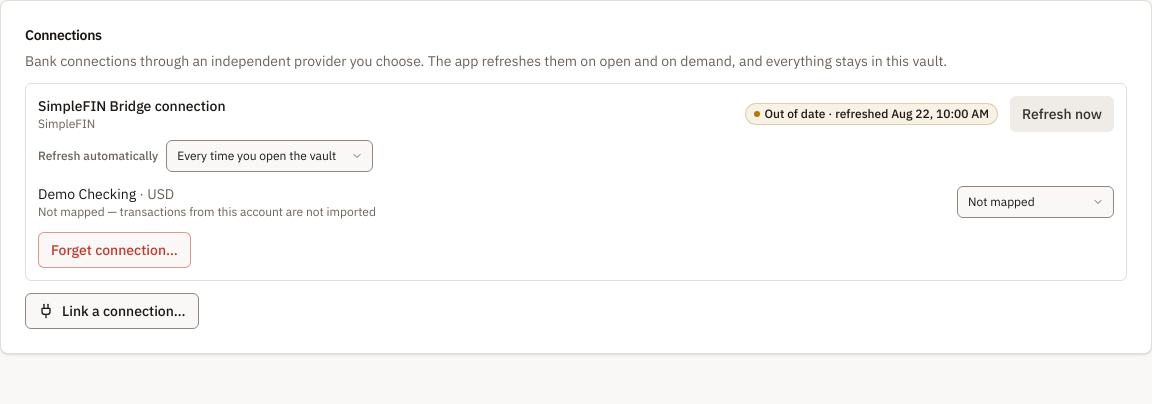
ConnectionsCard › reads an empty-provider discovery as healthy waiting, not an error
Click the button "Refresh now" at (1062, 114), box [1010,96,1114,132]
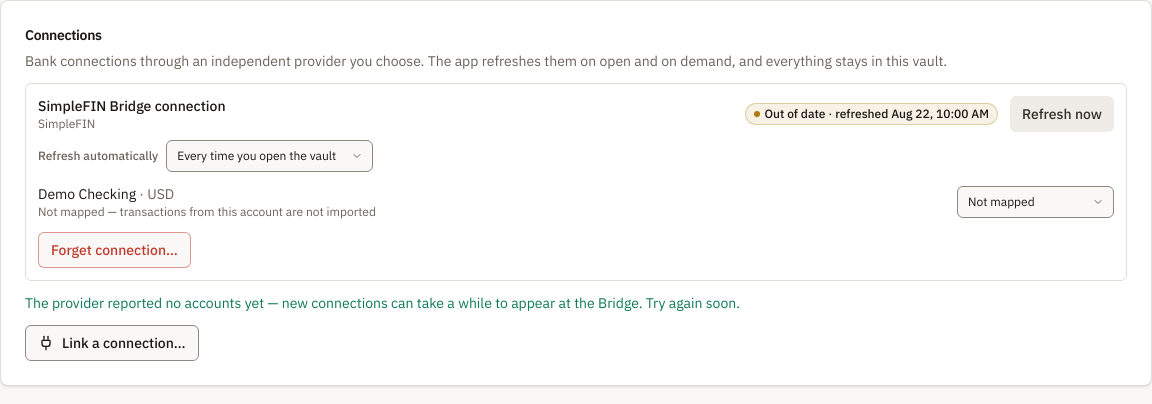
Now the message shows "reported no accounts yet", box [25,294,740,312]
